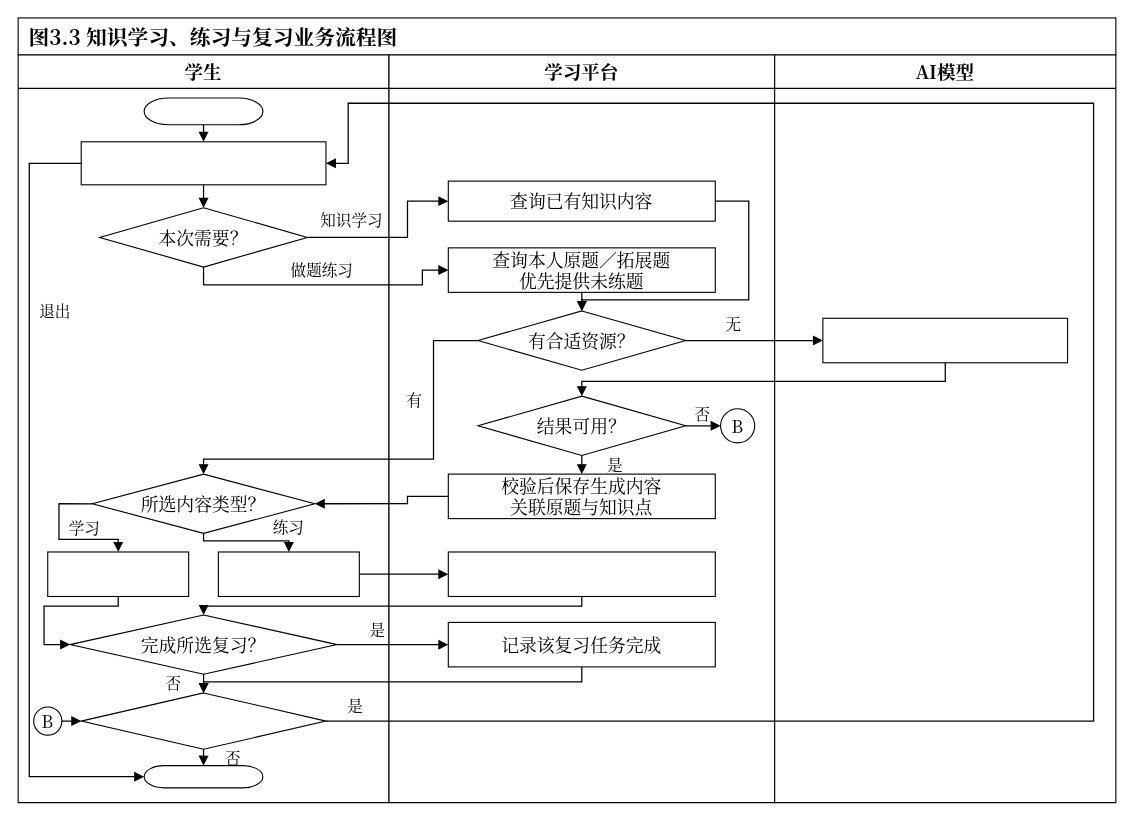
Image size: 1134x821. Some labels were removed from this diagram. Here are the shapes that lost their labels. From the top down, the centre of each, then its label:
[203,111]: 开始
[203,163]: 选择本人原题 或复习任务原题
[945,340]: 按所选类型生成 知识讲解／变式题
[118,573]: 阅读知识内容
[288,573]: 作答并自行 判定正误
[581,573]: 保存作答与题目标识 更新掌握度
[203,720]: 继续学习或练习？
[203,776]: 结束
